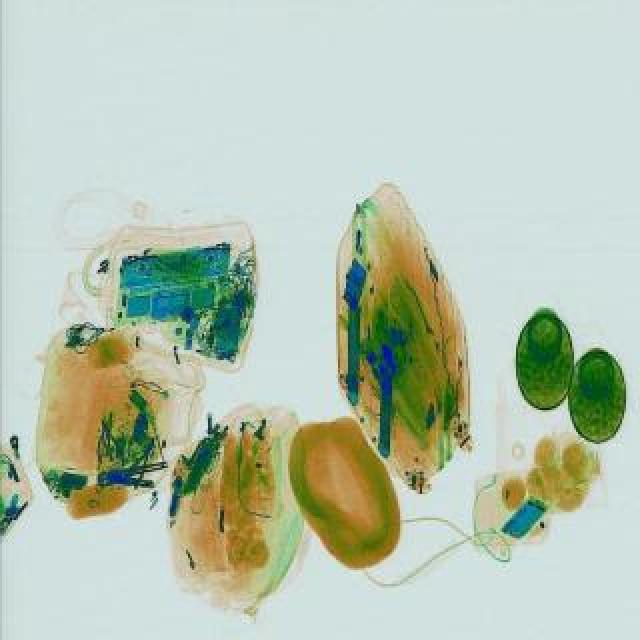wrench: (118, 432, 162, 488), (90, 418, 126, 468)
